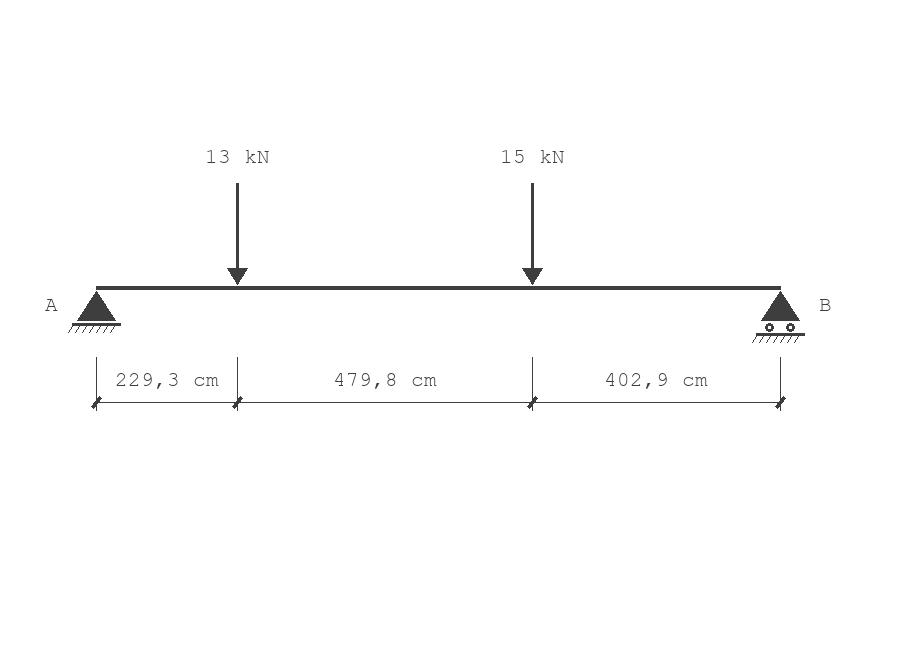pin_support: (68, 291, 121, 333)
point_load: (227, 183, 248, 285), (522, 183, 543, 285)
roller_support: (752, 291, 805, 343)
